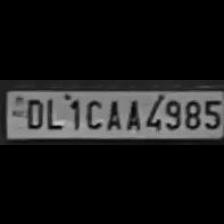1: (64, 96, 82, 130)
4: (142, 94, 162, 130)
5: (201, 96, 221, 130)
8: (180, 96, 200, 130)
9: (161, 96, 181, 130)
A: (104, 96, 122, 130), (122, 96, 140, 130)
C: (82, 97, 104, 129)
D: (22, 95, 42, 129)
L: (43, 96, 63, 130)
